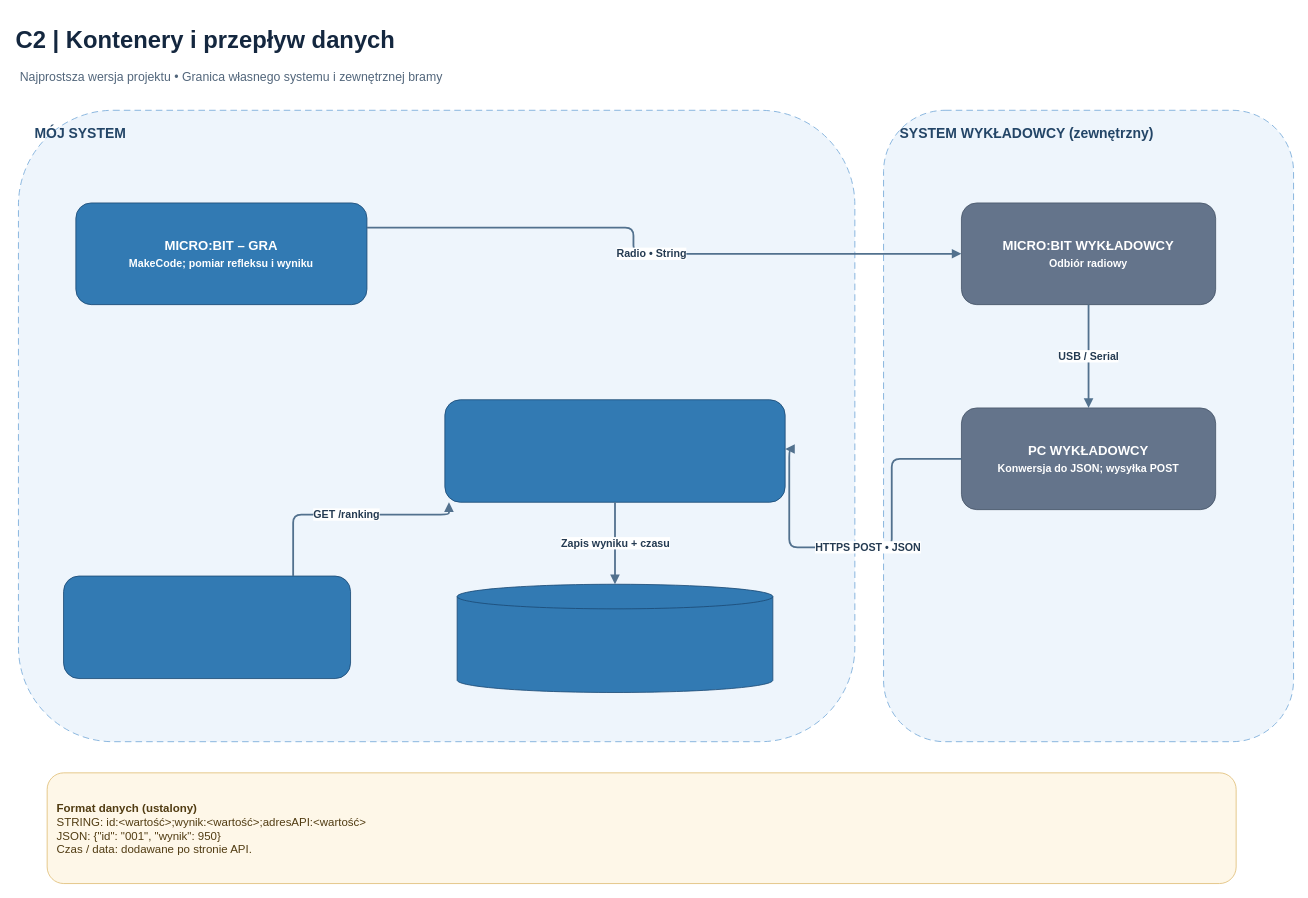
Image size: 1308x898. Some labels were removed from this diagram. The shapes that lost their labels are listed below. From the top down, each one's centre as x and y in pixels, then its label:
(x=614, y=450): REST API FastAPI; POST /results, GET /ranking
(x=207, y=627): RANKING WWW HTML, CSS, JavaScript
(x=614, y=637): BAZA WYNIKÓW Firebase Realtime Database
